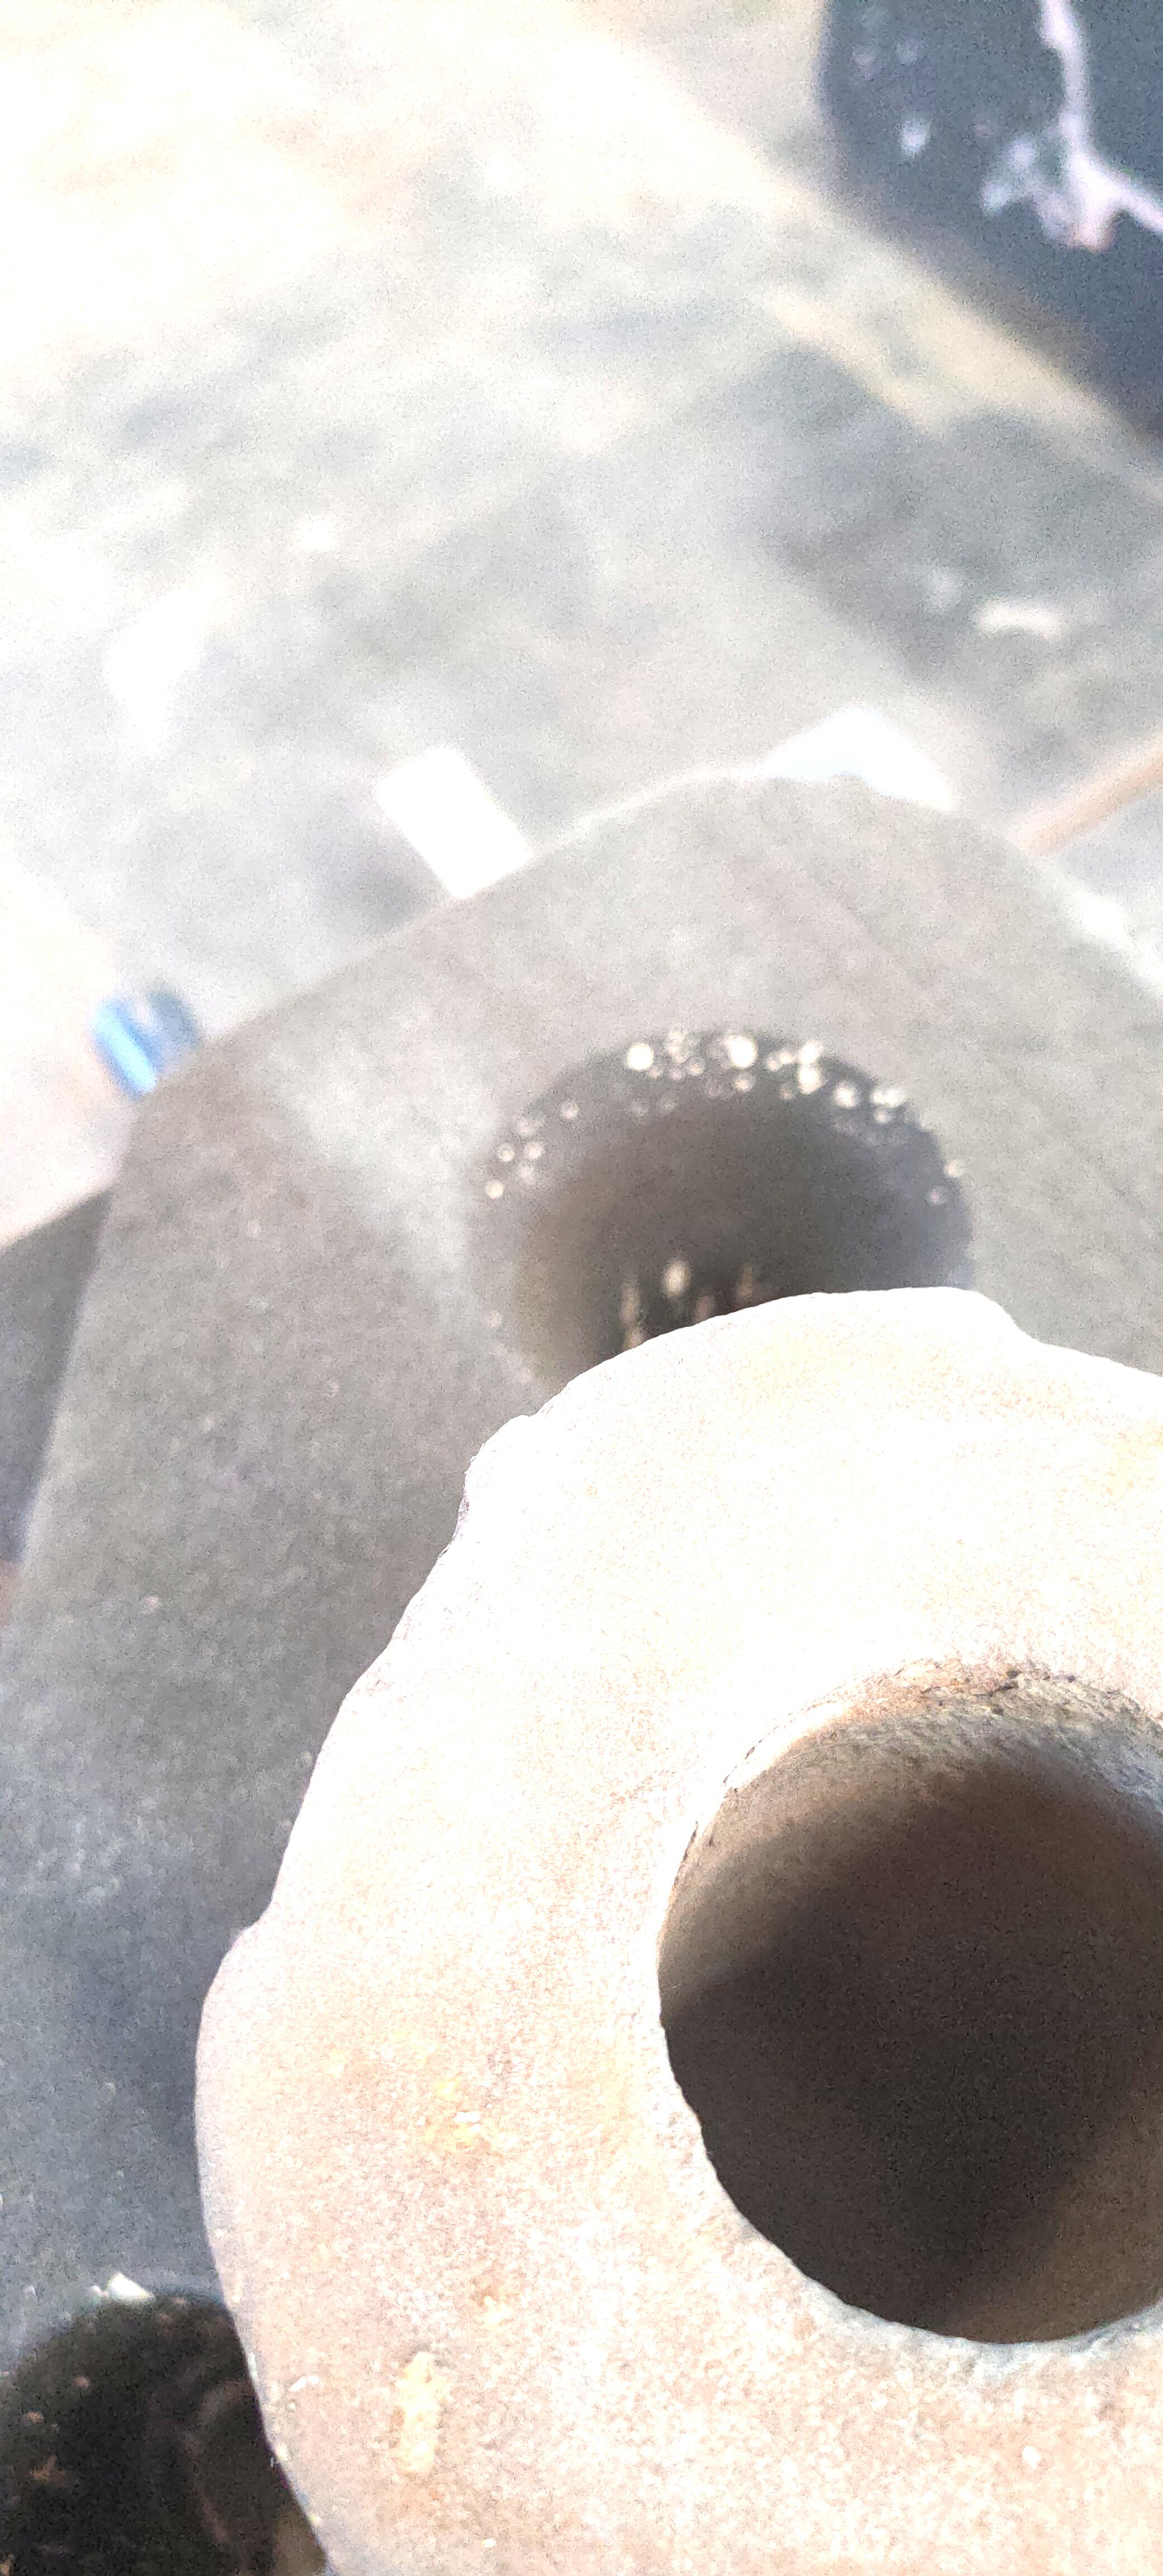pouring hole: (455, 1028, 977, 1436)
